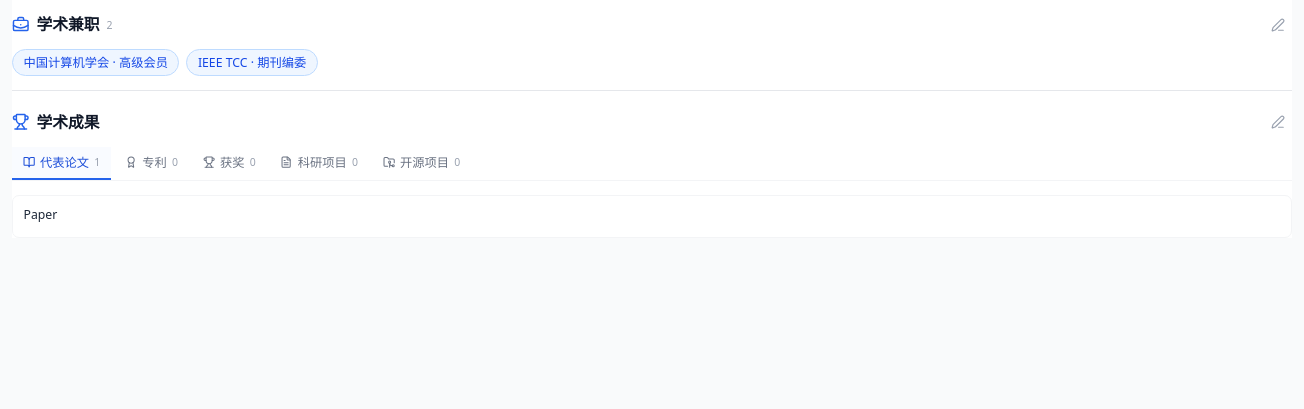
Test: AchievementsDetailCard › presents open-source projects as ranked assets without per-item editing
The image size is (1304, 409).
Click the button "开源项目 0" at (422, 163), box [372,146,471,180]
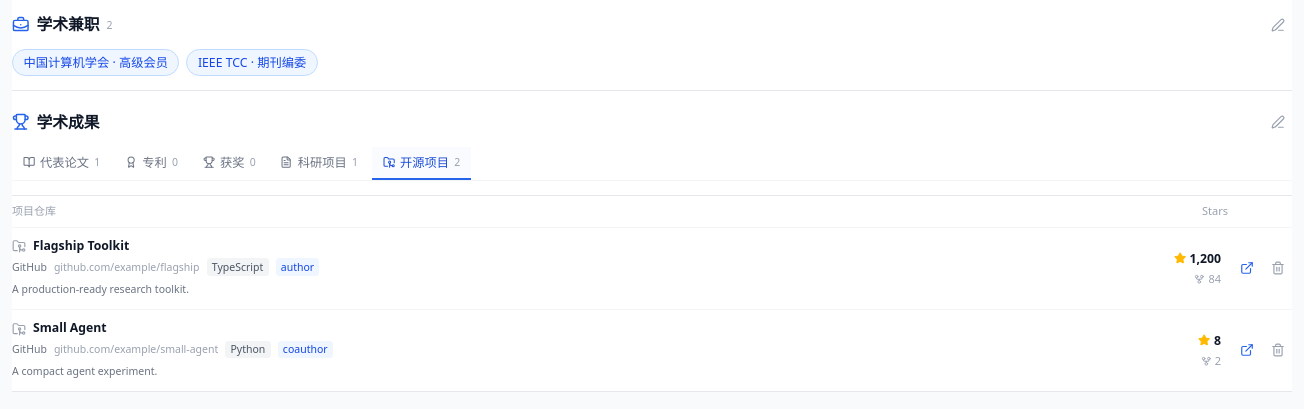
expect the text "1,200" is shown: met, box [1174,250,1221,267]
expect the text "Stars" is shown: met, box [1202,203,1228,218]
expect the button named "删除开源项目：Flagship Toolkit" is shown: met, box [1264,254,1292,282]
